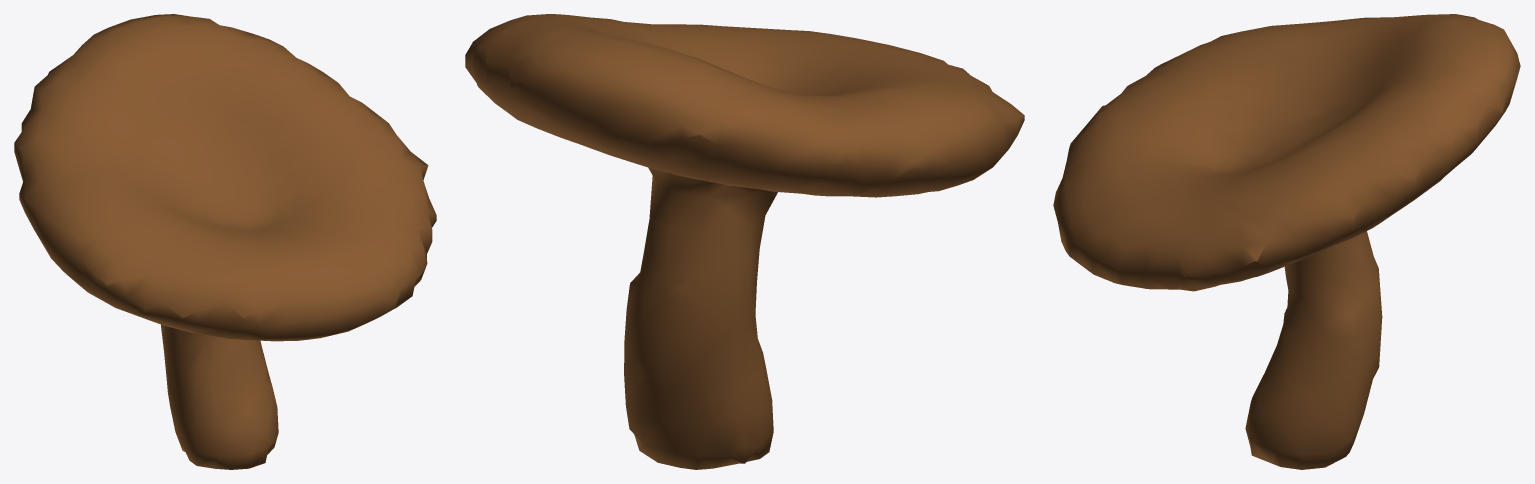
The model's file is Mushroom.fbx.
3 renders of one model, left to right at view 1: azimuth 30°, elevation 25°; view 2: azimuth 150°, elevation 25°; view 3: azimuth 270°, elevation 25°, orthographic. The views are drawn at different scales.
Visible parts, largest first — view 1: Mesh1.0; view 2: Mesh1.0; view 3: Mesh1.0.
Boxes of the visible parts, x1,y1,x2,y2 form: Mesh1.0: (14, 14, 436, 469); Mesh1.0: (465, 14, 1024, 469); Mesh1.0: (1053, 14, 1520, 469).
Size of the model in its own units: 186 by 177 by 180.
